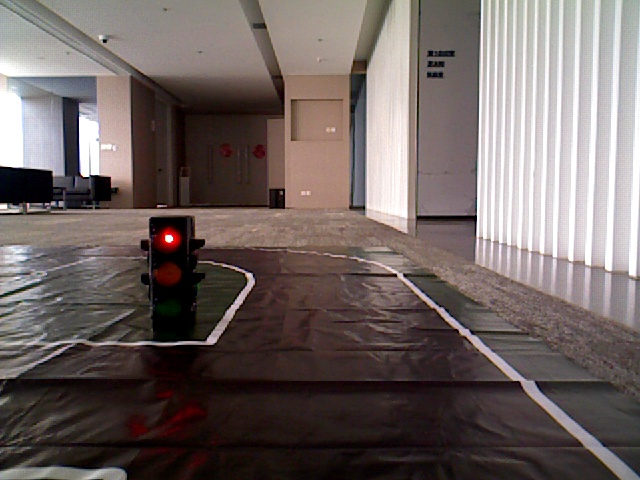red: (147, 219, 191, 327)
